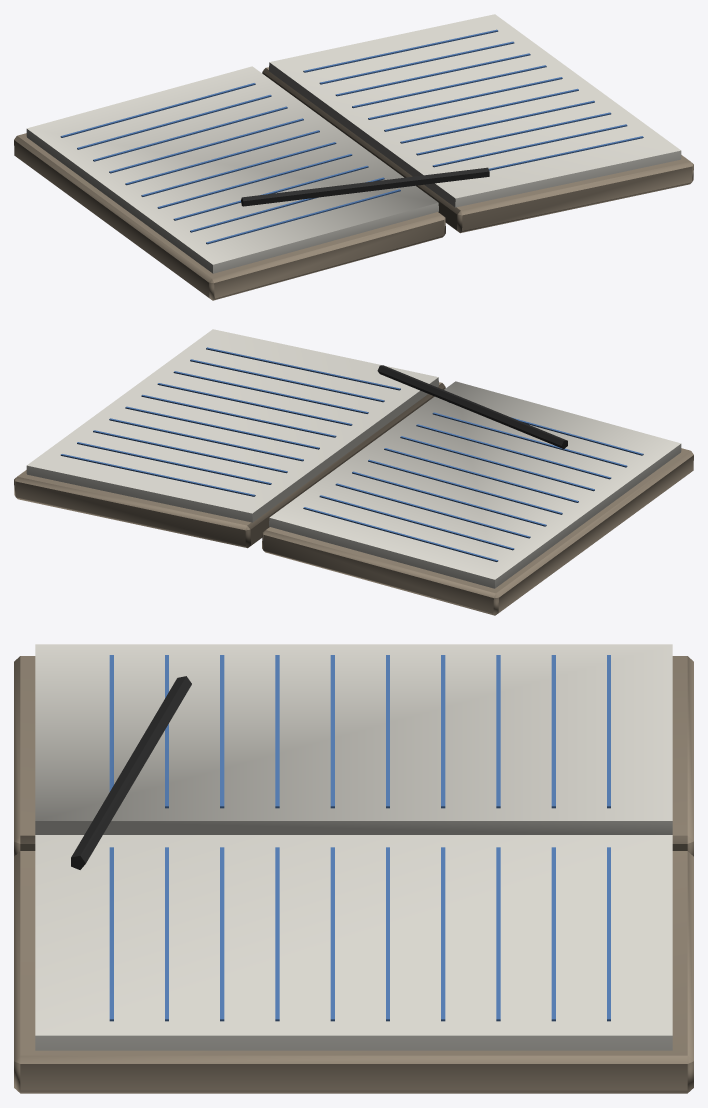
The model's file is ledger_open.glb.
The picture shows the model from 3 angles, top to bottom: view 1: azimuth 30°, elevation 25°; view 2: azimuth 150°, elevation 25°; view 3: azimuth 270°, elevation 25°; orthographic projection. The views are drawn at different scales.
Parts seen in each view (by area): view 1: static; view 2: static; view 3: static.
Boxes of the visible parts, x1=… form: static: x1=14, y1=14, x2=693, y2=300; static: x1=14, y1=329, x2=693, y2=615; static: x1=14, y1=644, x2=693, y2=1093.
Bounding box in the file's own units: 0.4508 × 0.0435 × 0.32.
